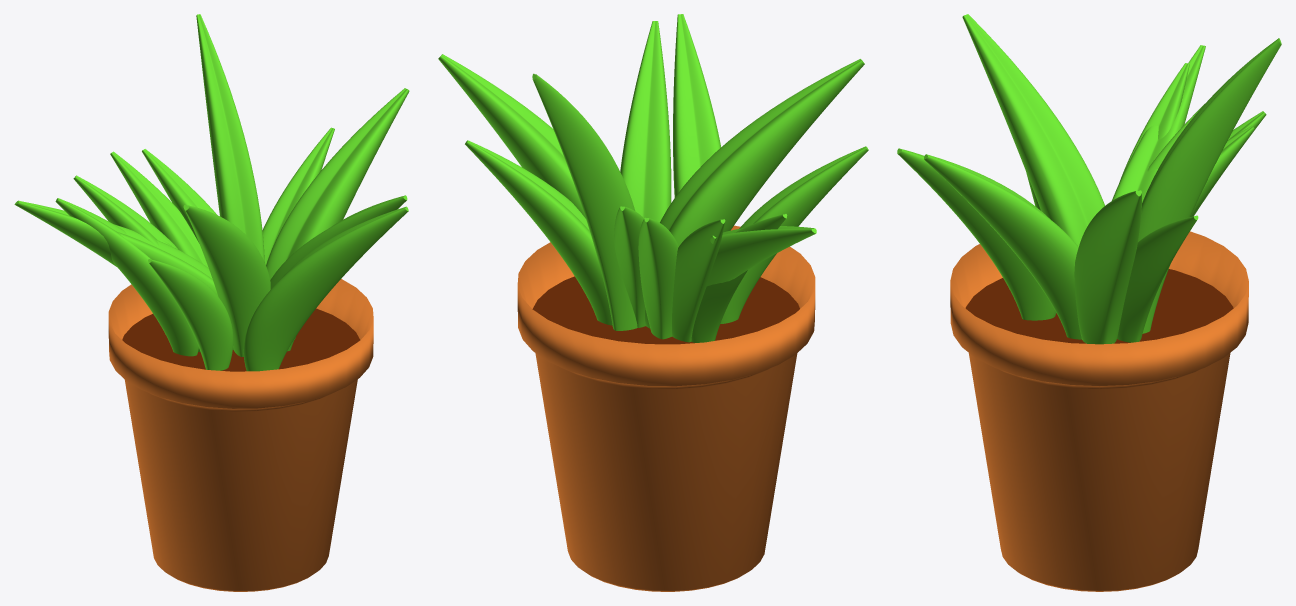
Rendered from planta.fbx.
The picture shows the model from 3 angles, left to right: view 1: azimuth 30°, elevation 25°; view 2: azimuth 150°, elevation 25°; view 3: azimuth 270°, elevation 25°; orthographic projection. The views are drawn at different scales.
Visible parts, largest first — view 1: Cylinder, NurbsPath, Cylinder.001; view 2: Cylinder, NurbsPath, Cylinder.001; view 3: Cylinder, NurbsPath, Cylinder.001.
Part boxes in pixels (<box>): Cylinder: <box>108,279,373,591</box>; NurbsPath: <box>14,14,409,371</box>; Cylinder.001: <box>122,308,360,371</box>; Cylinder: <box>517,225,815,591</box>; NurbsPath: <box>438,14,868,342</box>; Cylinder.001: <box>532,276,799,344</box>; Cylinder: <box>950,231,1248,591</box>; NurbsPath: <box>897,14,1281,344</box>; Cylinder.001: <box>965,269,1233,343</box>.
Size of the model in its own units: 88.96 by 110 by 72.08.
